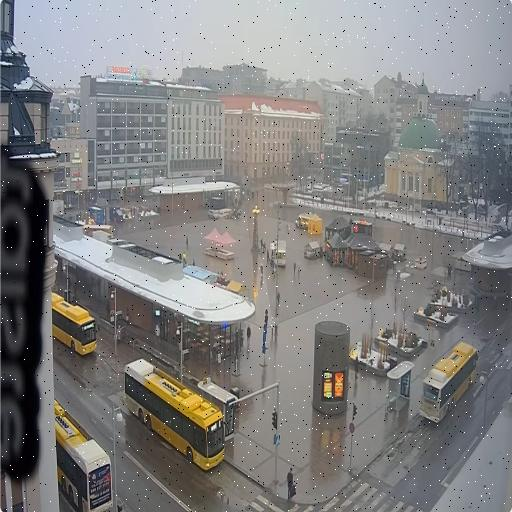Bus: (124, 358, 225, 470), (54, 399, 113, 511), (420, 342, 478, 423), (52, 292, 97, 355)
